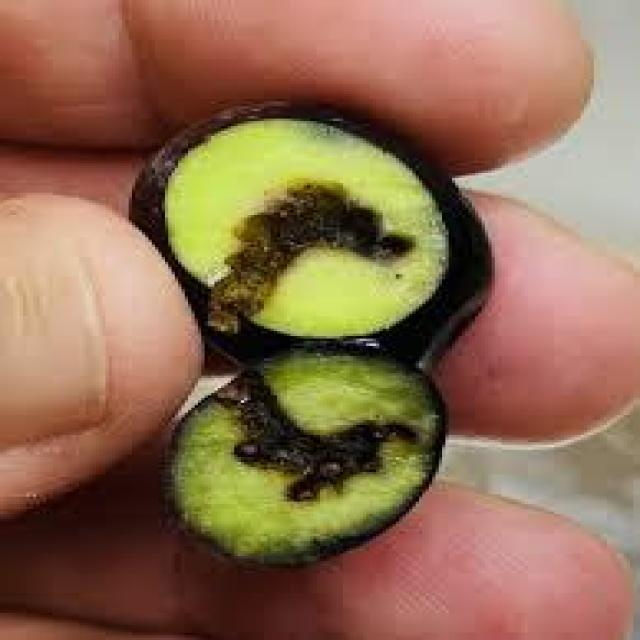Anthracnose: (128, 104, 488, 564)
